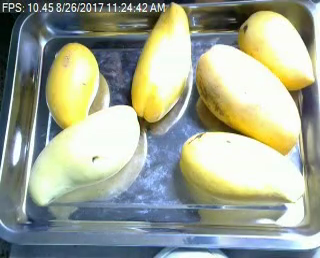Mango: (27, 103, 139, 208), (197, 43, 300, 154), (180, 130, 306, 203), (131, 2, 191, 120), (238, 9, 317, 90), (46, 42, 100, 129)
